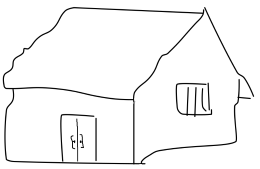big_house: (0, 1, 259, 168)
closed_window: (170, 76, 217, 122)
door: (54, 109, 106, 167)
roof: (0, 1, 255, 104)
wall: (2, 82, 141, 169)
